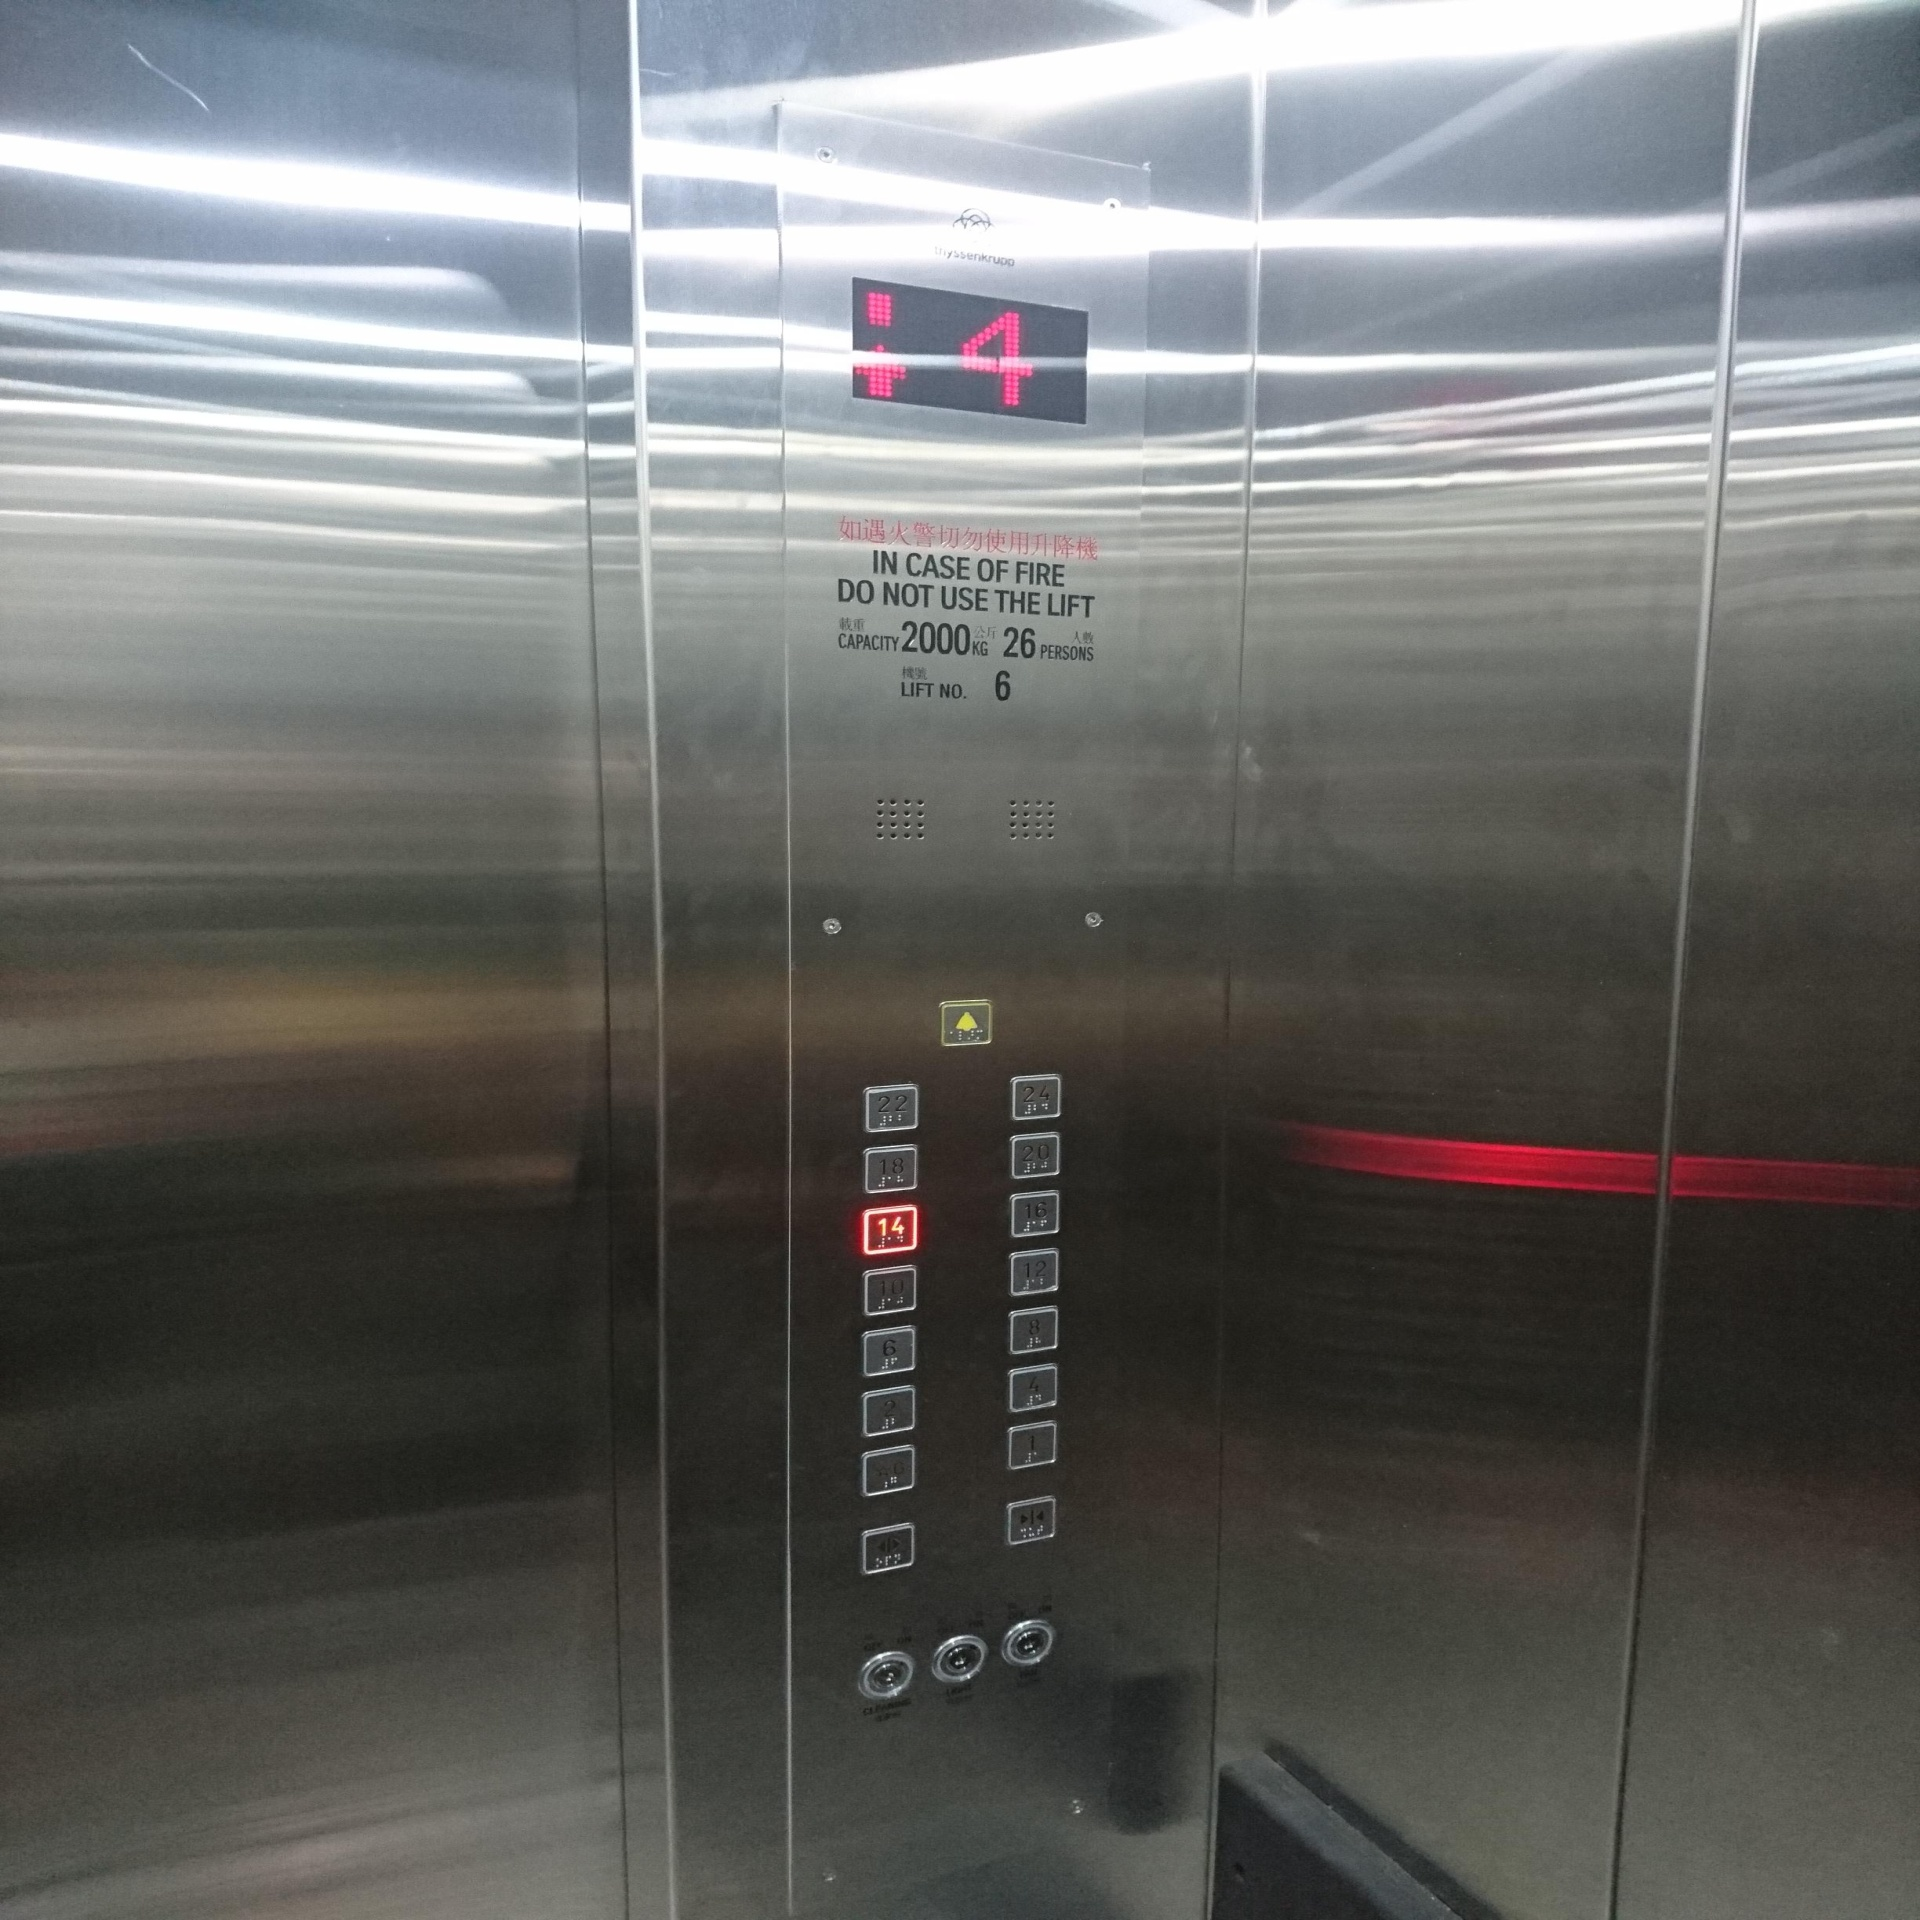1: (1006, 1417, 1058, 1472)
10: (862, 1264, 918, 1315)
12: (1009, 1247, 1060, 1298)
14: (863, 1204, 918, 1254)
16: (1009, 1189, 1060, 1238)
18: (863, 1143, 920, 1196)
2: (862, 1384, 916, 1438)
20: (1009, 1131, 1062, 1180)
22: (863, 1081, 920, 1134)
24: (1011, 1073, 1062, 1122)
4: (1007, 1361, 1058, 1412)
6: (862, 1324, 916, 1378)
8: (1007, 1305, 1060, 1356)
G: (862, 1444, 918, 1500)
alarm: (939, 999, 995, 1046)
close: (1006, 1495, 1058, 1545)
keyhole: (856, 1649, 914, 1704), (932, 1635, 988, 1684), (1002, 1618, 1057, 1667)
led: (849, 281, 1092, 424)
open: (862, 1519, 916, 1577)
